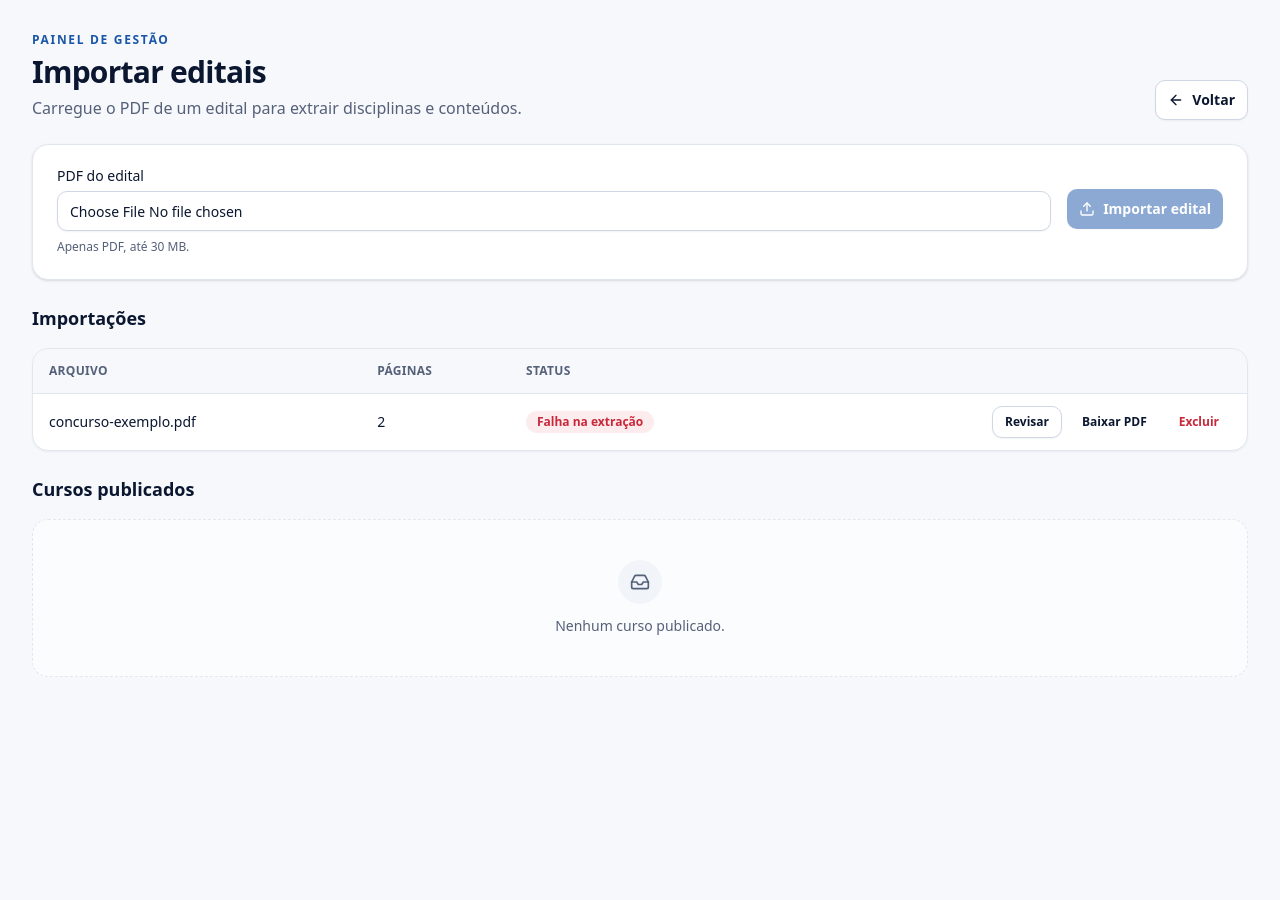
Test case: TelaImportarEdital › reprocessamento atualiza a arvore para revisao sem recarregar a pagina
Expected: the text "concurso-exemplo.pdf" is shown, [33, 393, 361, 450]
Click the button "Revisar".
click(1027, 422)  # box [992, 406, 1062, 438]
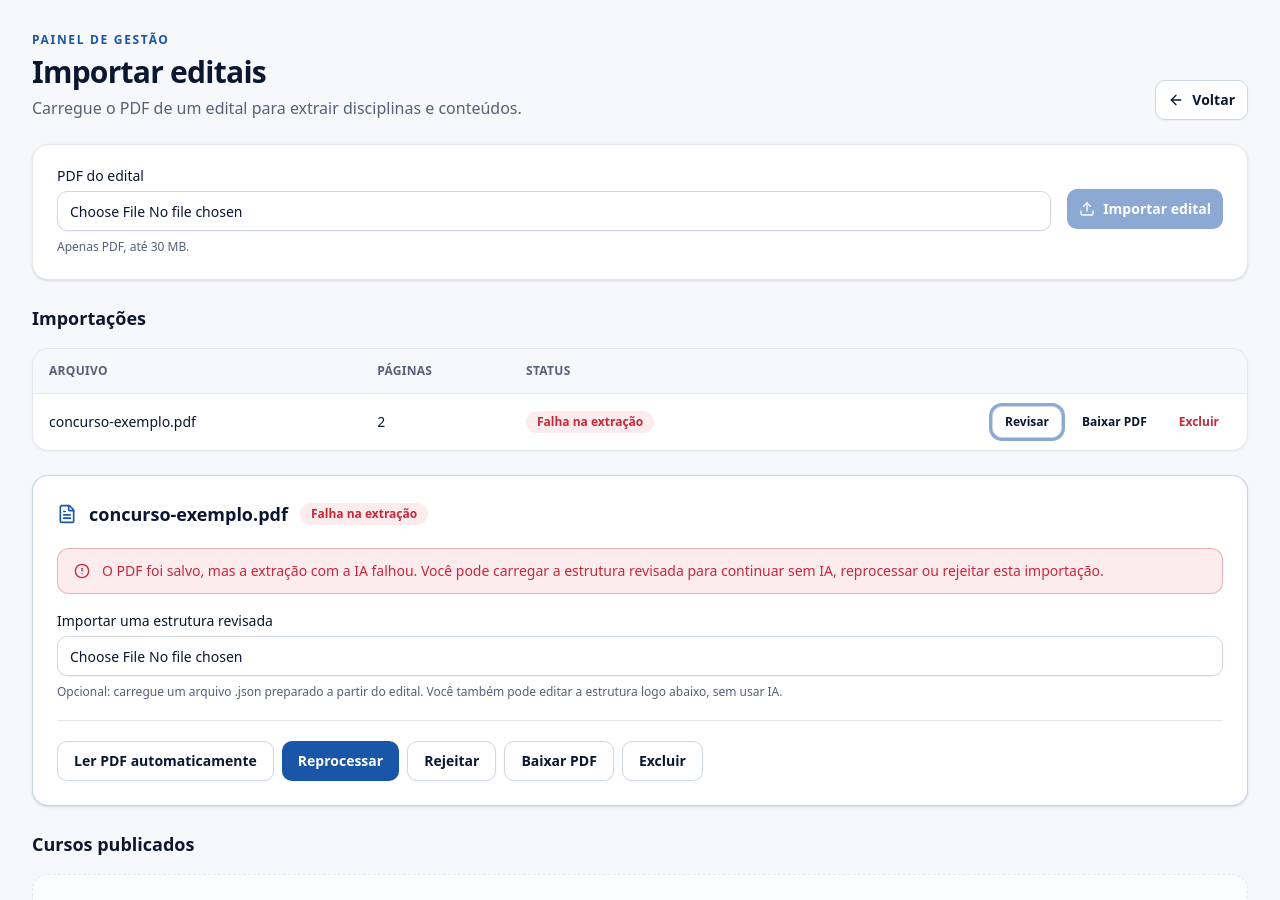
Click the button "Reprocessar".
click(340, 760)  # box [282, 740, 399, 780]
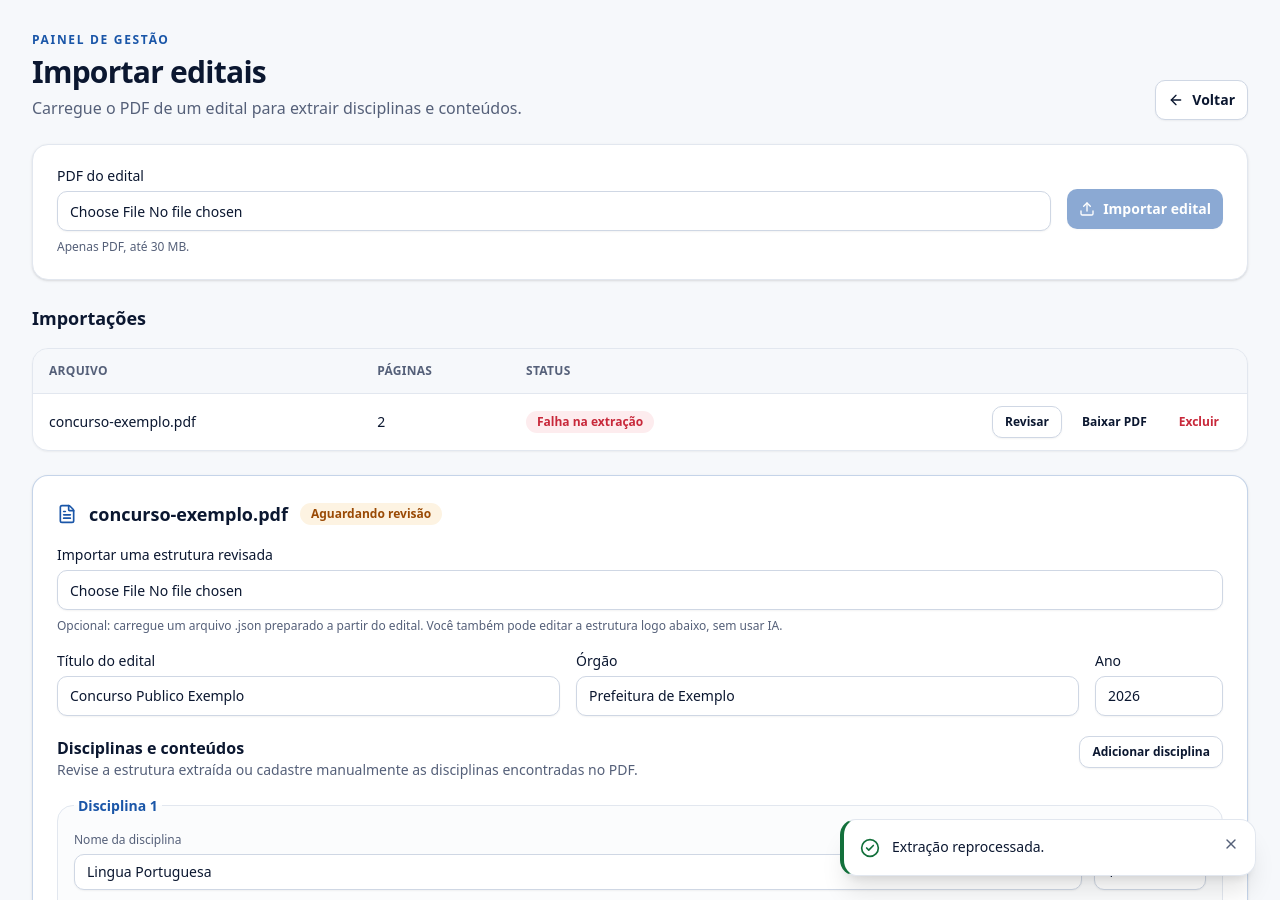
Expected: the field labelled "Título do edital" holds "Concurso Publico Exemplo", [57, 676, 560, 716]
Expected: the field named "Nome da disciplina 1" holds "Lingua Portuguesa", [74, 854, 1082, 890]
